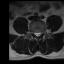CCS_normal: (36, 31, 38, 39)
LFS_normal: (40, 30, 42, 35)
LLS_normal: (38, 31, 40, 37)
RFS_normal: (33, 30, 35, 36)
RLS_normal: (35, 30, 36, 37)
